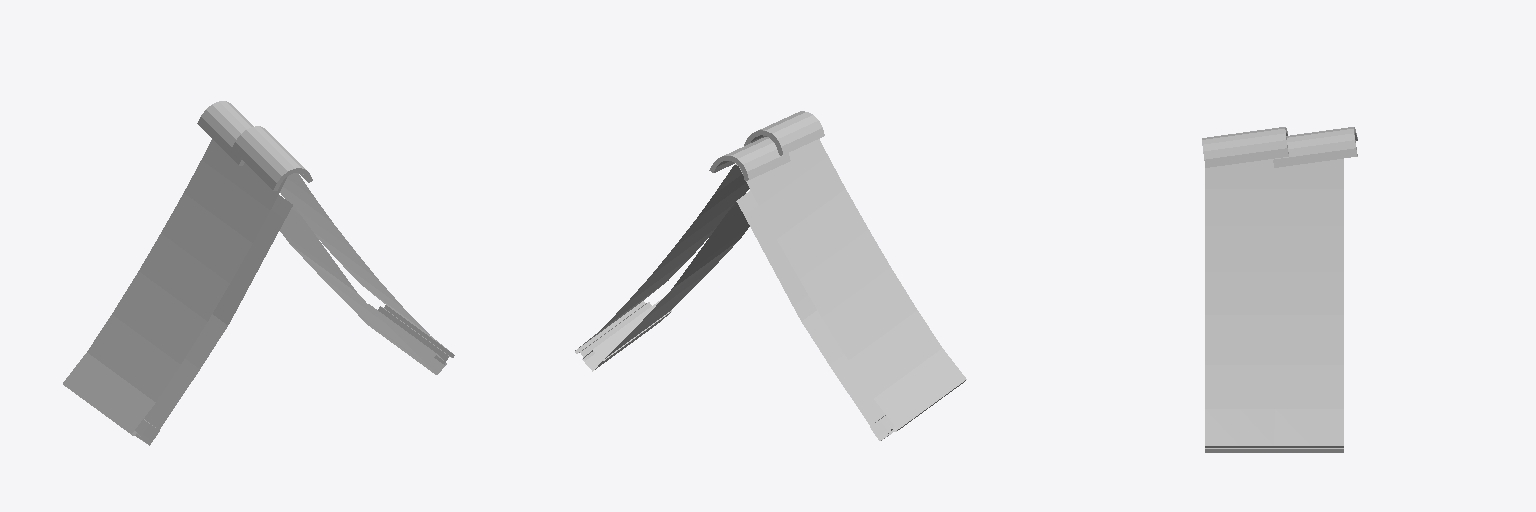
Rendered from Roof_Modular_FlatTiles_4_Mid.obj.
The picture shows the model from 3 angles: view 1: azimuth 30°, elevation 25°; view 2: azimuth 150°, elevation 25°; view 3: azimuth 270°, elevation 25°; orthographic projection.
Visible parts, largest first — view 1: Roof_Modular_FlatTiles_4_Mid; view 2: Roof_Modular_FlatTiles_4_Mid; view 3: Roof_Modular_FlatTiles_4_Mid.
Part boxes in pixels (left/top/right/bottom): Roof_Modular_FlatTiles_4_Mid: left=63, top=101, right=454, bottom=445; Roof_Modular_FlatTiles_4_Mid: left=575, top=111, right=966, bottom=440; Roof_Modular_FlatTiles_4_Mid: left=1202, top=127, right=1357, bottom=452.
Bounding box in the file's own units: 5.39 × 4.07 × 2.25.